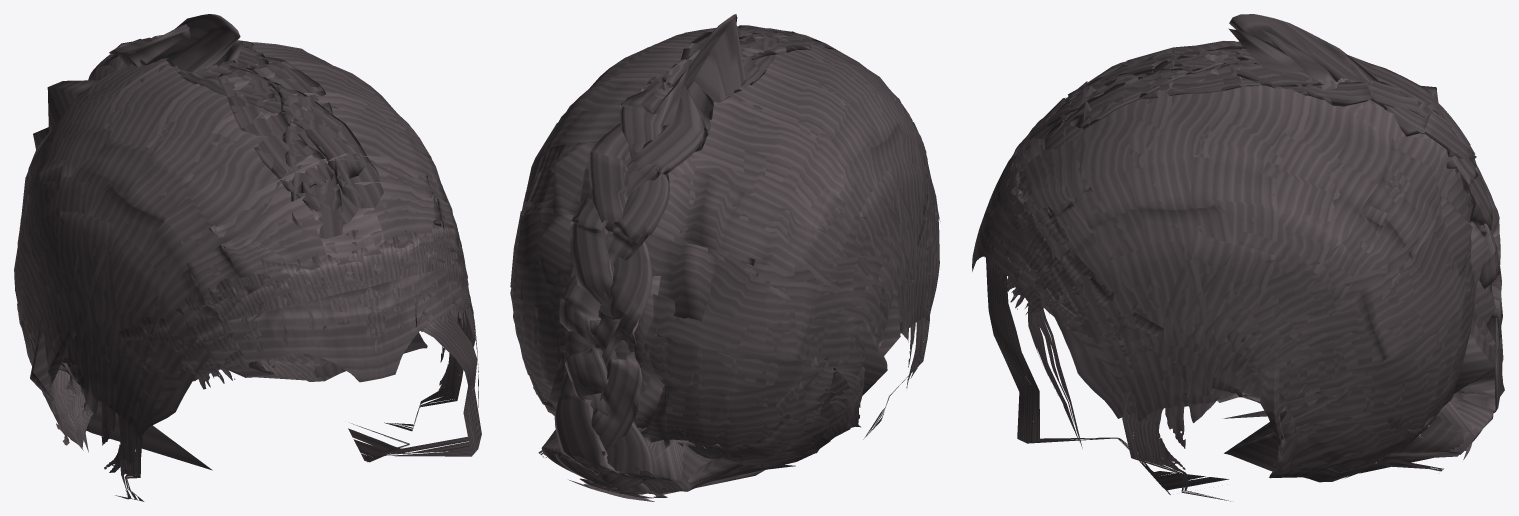
File: hair_long01.glb
The picture shows the model from 3 angles, left to right: view 1: azimuth 30°, elevation 25°; view 2: azimuth 150°, elevation 25°; view 3: azimuth 270°, elevation 25°; orthographic projection. The views are drawn at different scales.
Visible parts, largest first — view 1: hair_long01; view 2: hair_long01; view 3: hair_long01.
Part boxes in pixels (x1,y1,x2,y2): hair_long01: [14, 14, 481, 501]; hair_long01: [510, 14, 940, 501]; hair_long01: [972, 14, 1504, 501].
Bounding box in the file's own units: 0.1601 × 0.1715 × 0.198.
1 material, 1 textured.
